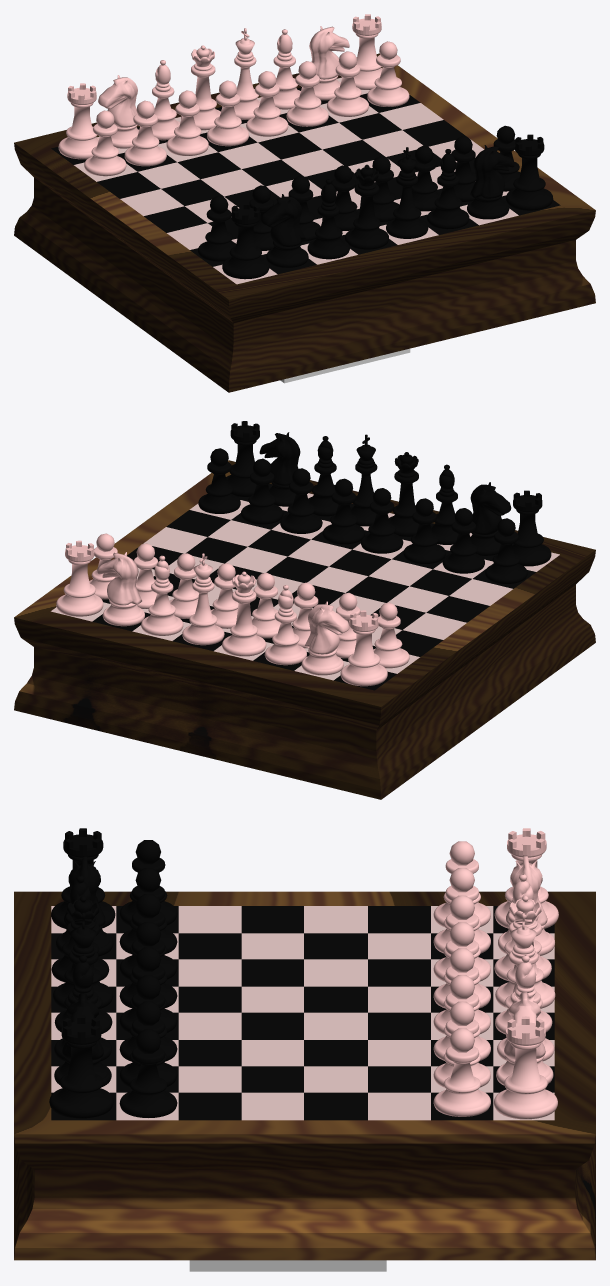
The model's file is chessBoard1.glb.
3 views of the same model, one above another, from view 1: azimuth 30°, elevation 25°; view 2: azimuth 150°, elevation 25°; view 3: azimuth 270°, elevation 25° (orthographic). The views are drawn at different scales.
Parts seen in each view (by area): view 1: Cube_15, Cylinder.024_28, Cylinder.007_9, Cylinder.023_27, Cylinder.008_10, Cylinder.010_12, Cylinder.002_4, Cylinder.001_3, Cylinder.011_13, Cylinder.014_18, Cylinder.022_26, Cylinder.009_11 (+22 smaller); view 2: Cube_15, Cylinder.001_3, Cylinder.014_18, Cylinder.002_4, Cylinder.013_17, Cylinder.004_6, Cylinder.024_28, Cylinder.008_10, Cylinder.005_7, Cylinder.007_9, Cylinder.012_16, Cylinder.003_5 (+21 smaller); view 3: Cube_15, Cylinder.013_17, Cylinder.023_27, Cylinder.021_25, Cylinder.006_8, Cube, Cylinder.002_4, Cylinder.008_10, Cylinder.004_6, Cylinder.010_12, Cylinder.014_18, Cylinder.025_29 (+22 smaller).
Part boxes in pixels (bbox=[...]): Cube_15: bbox=[14, 53, 595, 392]; Cylinder.024_28: bbox=[261, 194, 308, 267]; Cylinder.007_9: bbox=[467, 145, 514, 219]; Cylinder.023_27: bbox=[506, 134, 553, 210]; Cylinder.008_10: bbox=[222, 203, 269, 279]; Cylinder.010_12: bbox=[345, 164, 388, 249]; Cylinder.002_4: bbox=[58, 83, 98, 159]; Cylinder.001_3: bbox=[98, 75, 138, 148]; Cylinder.011_13: bbox=[386, 147, 428, 238]; Cylinder.014_18: bbox=[309, 26, 349, 100]; Cylinder.022_26: bbox=[307, 179, 349, 259]; Cylinder.009_11: bbox=[427, 149, 469, 229]; Cube_15: bbox=[14, 460, 595, 799]; Cylinder.001_3: bbox=[301, 601, 349, 675]; Cylinder.014_18: bbox=[97, 552, 144, 626]; Cylinder.002_4: bbox=[340, 610, 387, 686]; Cylinder.013_17: bbox=[56, 540, 103, 616]; Cylinder.004_6: bbox=[222, 571, 266, 656]; Cylinder.024_28: bbox=[470, 482, 511, 555]; Cylinder.008_10: bbox=[512, 490, 551, 566]; Cylinder.005_7: bbox=[182, 553, 224, 645]; Cylinder.007_9: bbox=[259, 432, 300, 506]; Cylinder.012_16: bbox=[141, 555, 183, 635]; Cylinder.003_5: bbox=[264, 585, 306, 665]; Cube_15: bbox=[14, 891, 595, 1260]; Cylinder.013_17: bbox=[493, 1016, 557, 1119]; Cylinder.023_27: bbox=[49, 1015, 113, 1118]; Cylinder.021_25: bbox=[433, 1028, 490, 1116]; Cylinder.006_8: bbox=[119, 1029, 177, 1117]; Cube: bbox=[189, 1260, 386, 1271]; Cylinder.002_4: bbox=[494, 828, 558, 928]; Cylinder.008_10: bbox=[51, 828, 115, 928]; Cylinder.004_6: bbox=[495, 895, 555, 1008]; Cylinder.010_12: bbox=[53, 896, 113, 1008]; Cylinder.014_18: bbox=[496, 992, 553, 1085]; Cylinder.025_29: bbox=[119, 1001, 177, 1086].
Size of the model in its own units: 5.83 by 3.7 by 5.91.
Materials: 6 (1 with a texture image).
